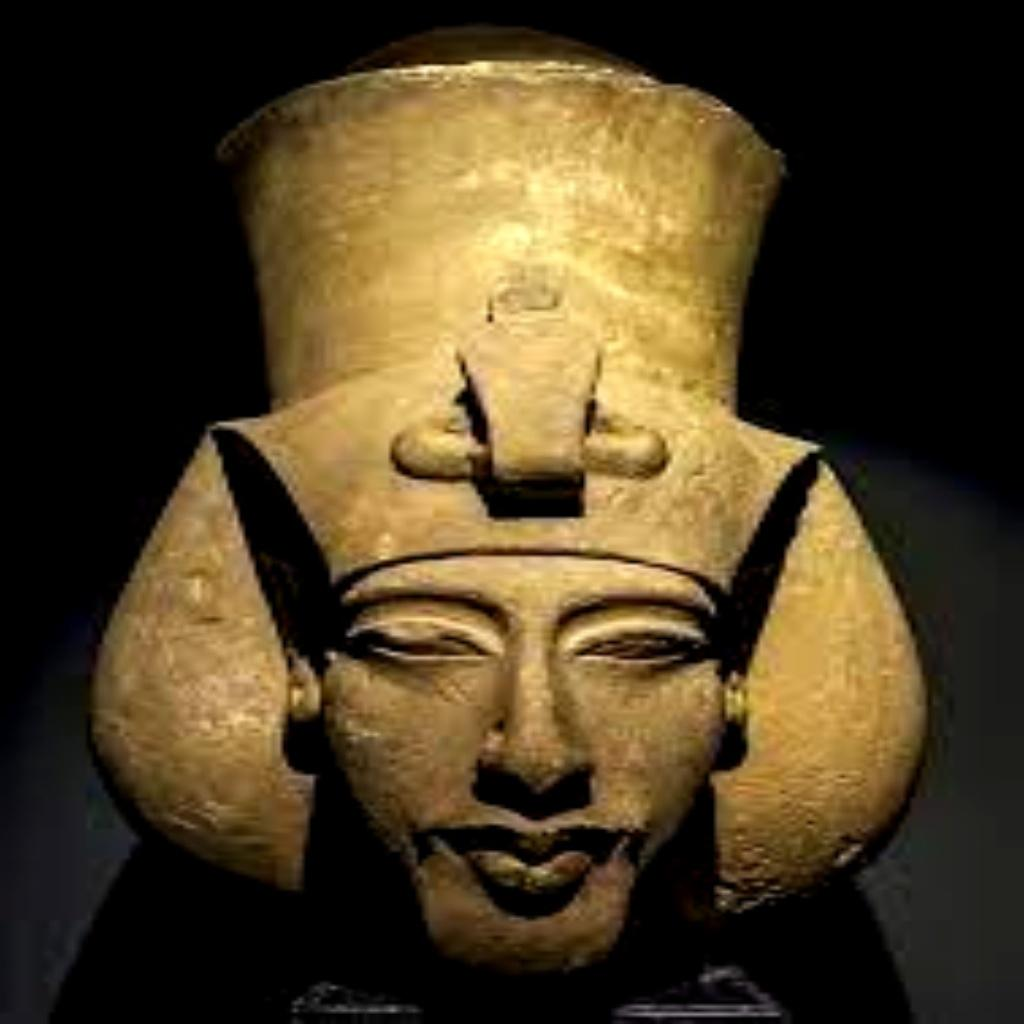Akhenaten: (38, 22, 954, 996)
